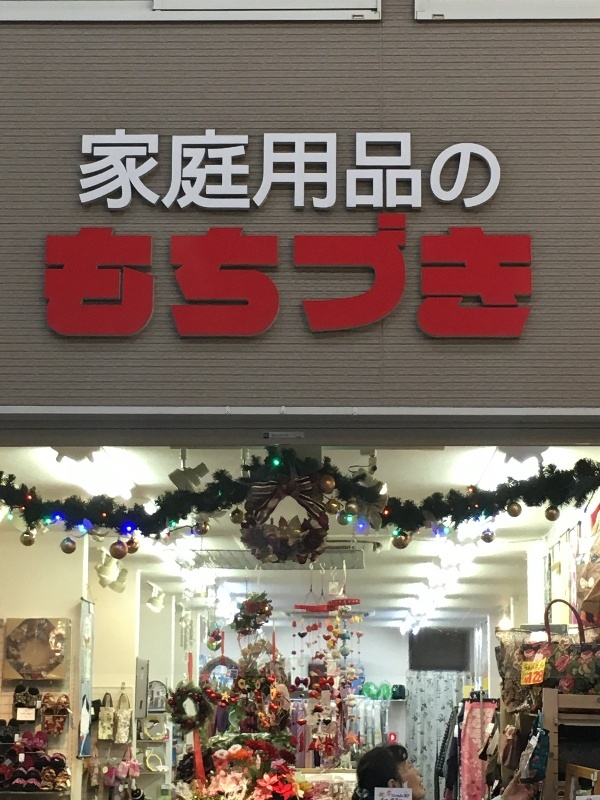text: (49, 208, 64, 346), (65, 208, 80, 346), (81, 208, 96, 346), (97, 208, 112, 346), (113, 208, 128, 346), (129, 208, 144, 346), (145, 208, 160, 346), (161, 208, 176, 346), (177, 208, 192, 346), (193, 208, 208, 346), (209, 208, 224, 346), (225, 208, 240, 346), (241, 208, 256, 346), (257, 208, 272, 346), (273, 208, 288, 346), (289, 208, 304, 346), (305, 208, 320, 346), (321, 208, 336, 346), (337, 208, 352, 346), (353, 208, 368, 346), (369, 208, 384, 346), (385, 208, 400, 346), (401, 208, 416, 346), (417, 208, 432, 346), (433, 208, 448, 346), (449, 208, 464, 346), (465, 208, 480, 346), (481, 208, 496, 346), (497, 208, 512, 346), (513, 208, 528, 346), (81, 127, 96, 213), (97, 127, 112, 213), (113, 127, 128, 213), (129, 127, 144, 213), (145, 127, 160, 213), (161, 127, 176, 213), (177, 127, 192, 213), (193, 127, 208, 213), (209, 127, 224, 213), (225, 127, 240, 213), (241, 127, 256, 213), (257, 127, 272, 213), (273, 127, 288, 213), (289, 127, 304, 213), (305, 127, 320, 213), (321, 127, 336, 213), (337, 127, 352, 213), (353, 127, 368, 213), (369, 127, 384, 213), (385, 127, 400, 213), (401, 127, 416, 213), (417, 127, 432, 213), (433, 127, 448, 213), (449, 127, 464, 213), (465, 127, 480, 213), (481, 127, 496, 213), (529, 208, 535, 346), (44, 208, 48, 346), (497, 127, 502, 213), (529, 671, 544, 684), (525, 671, 528, 684)
